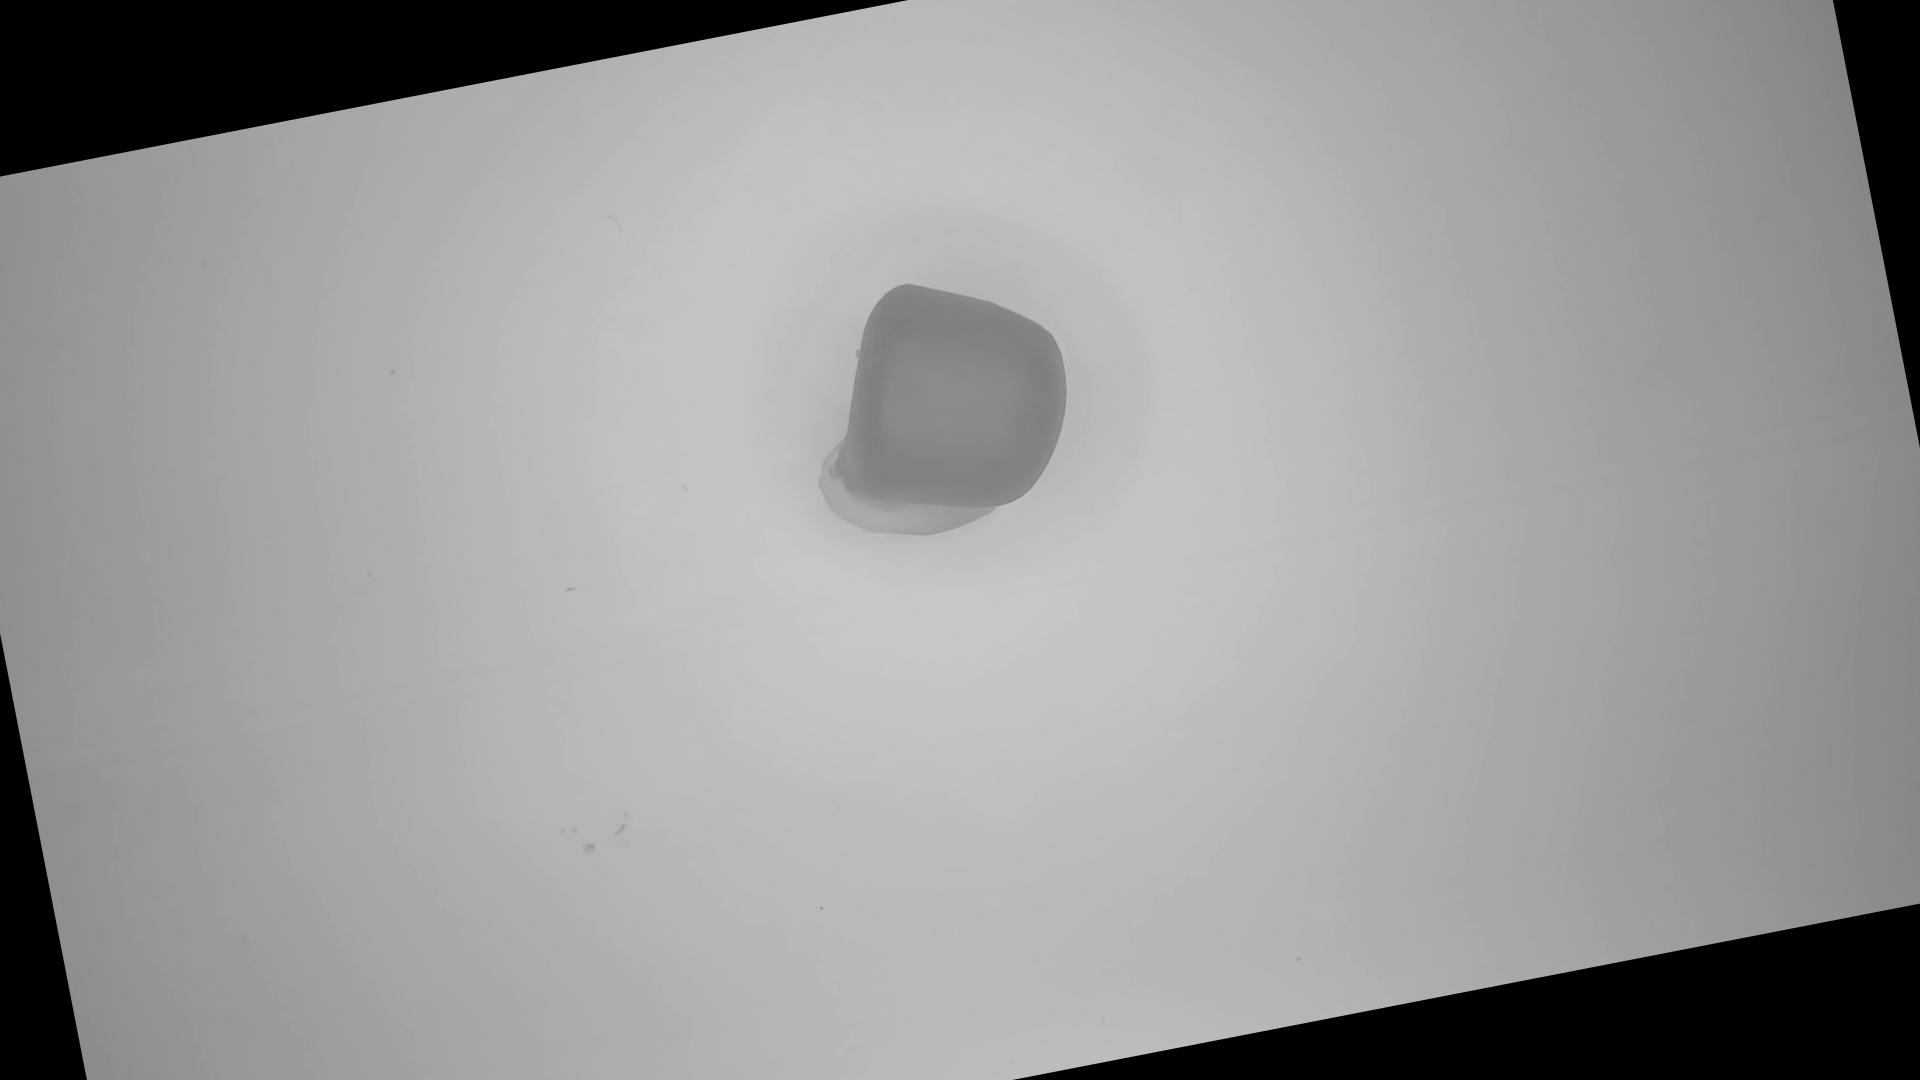abnormal: (781, 253, 1097, 560)
